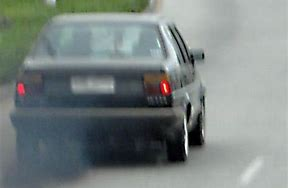smoke: (1, 94, 105, 188)
